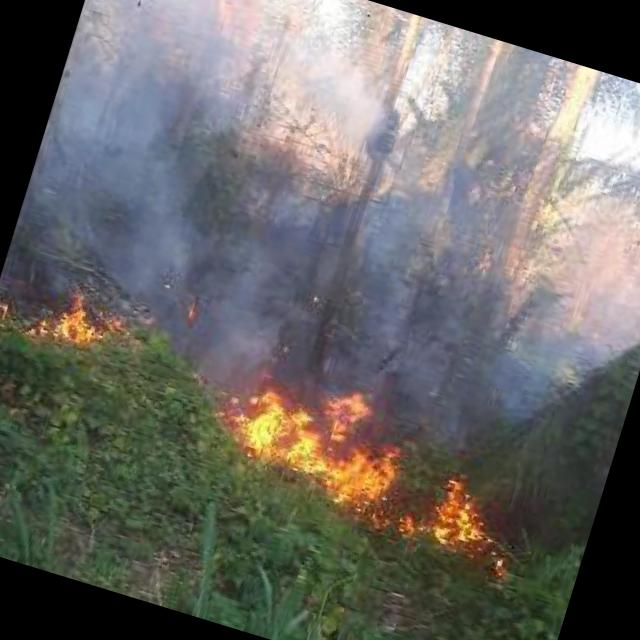fire: (206, 352, 551, 581), (11, 271, 124, 358)
smoke: (7, 34, 269, 327), (350, 228, 632, 481), (177, 166, 354, 424)
